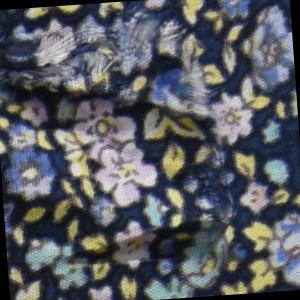Damage: (1, 2, 242, 290)
